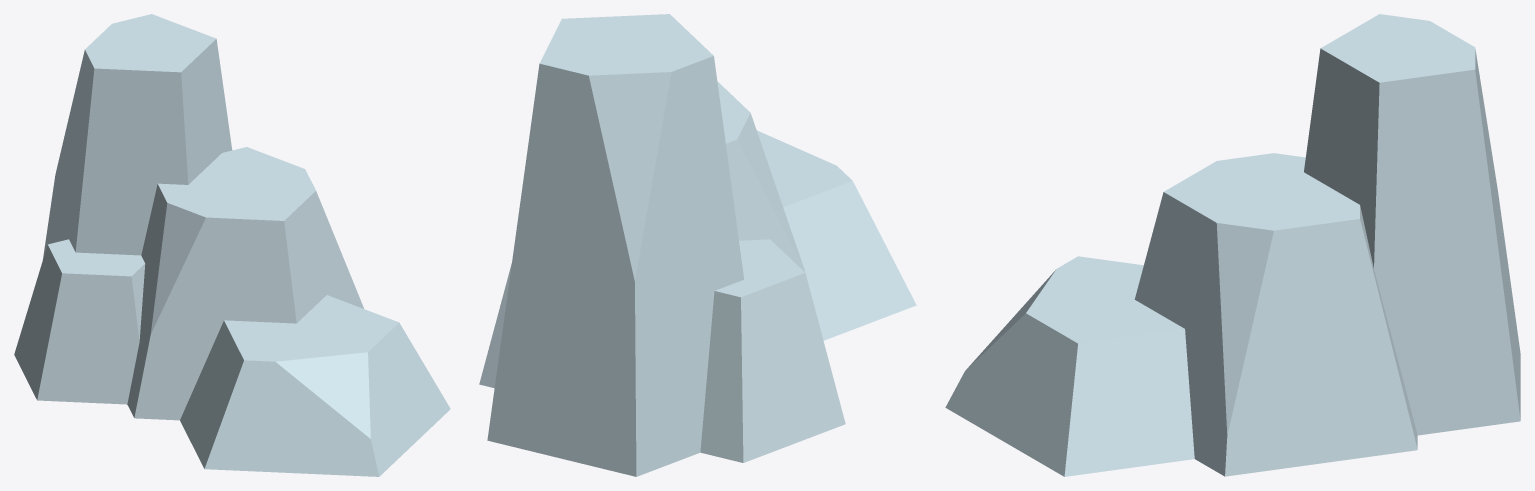
3 views of the same model, side by side, from view 1: azimuth 30°, elevation 25°; view 2: azimuth 150°, elevation 25°; view 3: azimuth 270°, elevation 25° (orthographic). The views are drawn at different scales.
Parts seen in each view (by area): view 1: rockWide; view 2: rockWide; view 3: rockWide.
Part boxes in pixels (x1,y1,x2,y2): rockWide: (14,14,450,476); rockWide: (479,14,916,476); rockWide: (945,14,1520,476).
Size of the model in its own units: 1.09 by 1.02 by 1.57.
